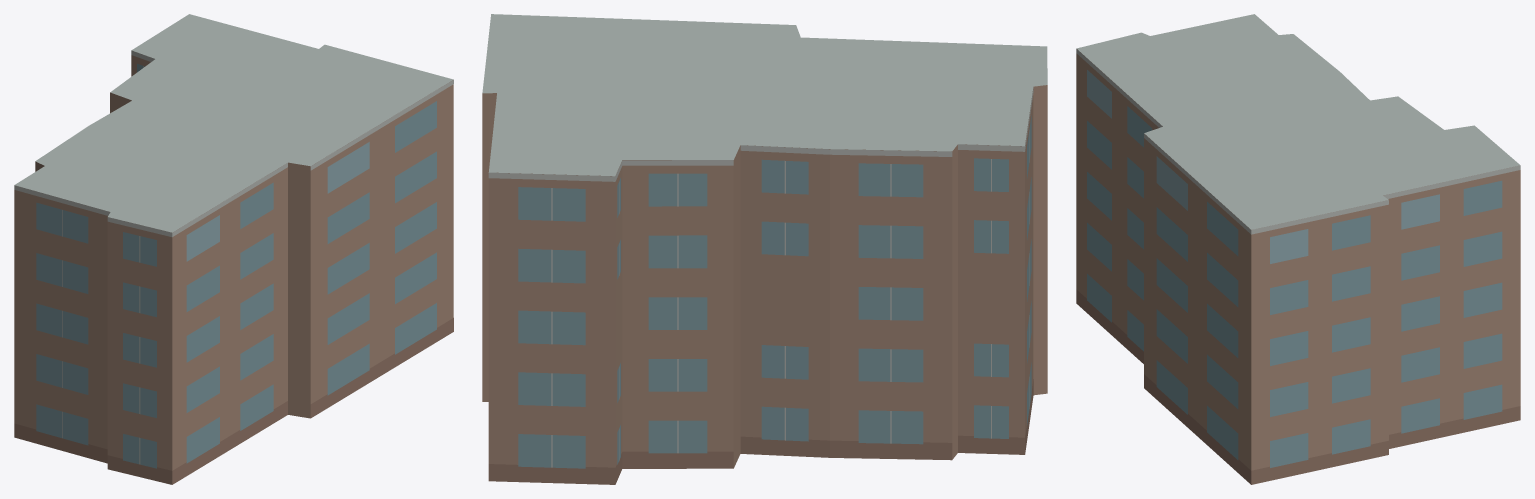
Rendered from survey-upis-32608344.glb.
3 views of the same model, side by side, from view 1: azimuth 30°, elevation 25°; view 2: azimuth 150°, elevation 25°; view 3: azimuth 270°, elevation 25° (orthographic). The views are drawn at different scales.
Visible parts, largest first — view 1: survey-upis-32608344.tmp; view 2: survey-upis-32608344.tmp; view 3: survey-upis-32608344.tmp.
Part boxes in pixels (<box>): survey-upis-32608344.tmp: <box>14,14,453,484</box>; survey-upis-32608344.tmp: <box>482,14,1047,484</box>; survey-upis-32608344.tmp: <box>1076,14,1520,484</box>.
Size of the model in its own units: 24.17 by 13.3 by 21.01.
